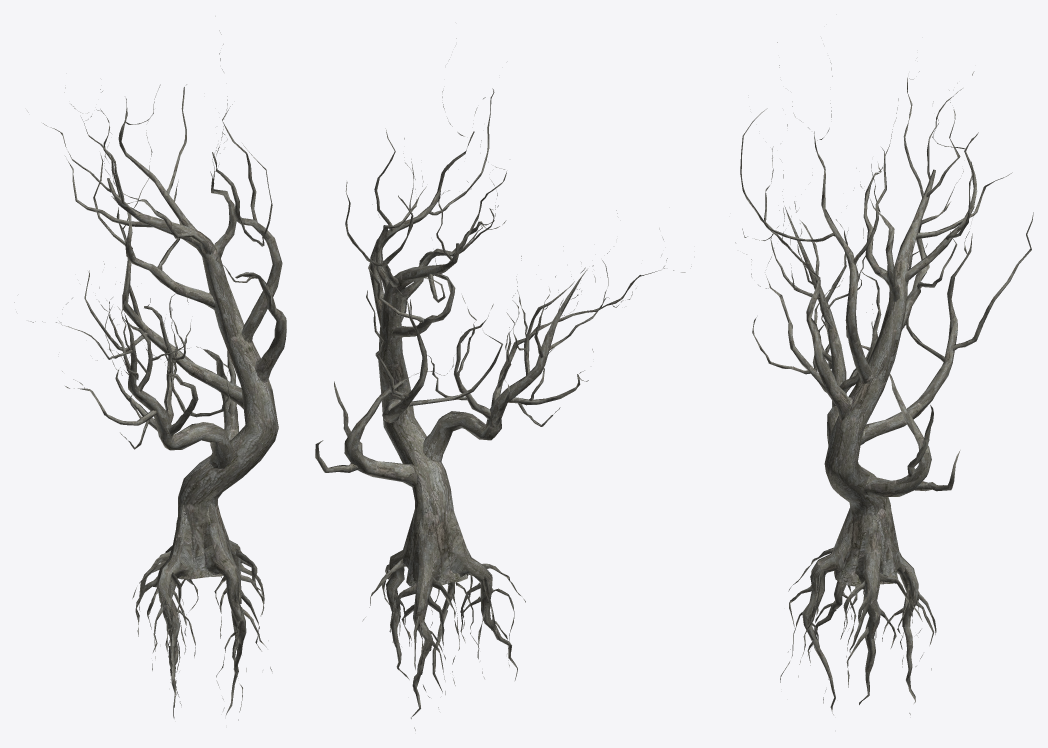
The model's file is olu_agac_d.gltf.
3 views of the same model, side by side, from view 1: azimuth 30°, elevation 25°; view 2: azimuth 150°, elevation 25°; view 3: azimuth 270°, elevation 25° (orthographic). The views are drawn at different scales.
Visible parts, largest first — view 1: olu_agac_d; view 2: olu_agac_d; view 3: olu_agac_d.
Boxes of the visible parts, box(x1,y1,x2,y2) form: olu_agac_d: box(14, 16, 286, 720); olu_agac_d: box(315, 38, 691, 730); olu_agac_d: box(735, 42, 1033, 714).
Bounding box in the file's own units: 2.48 × 5.59 × 2.17.
Materials: 1 (1 with a texture image).
